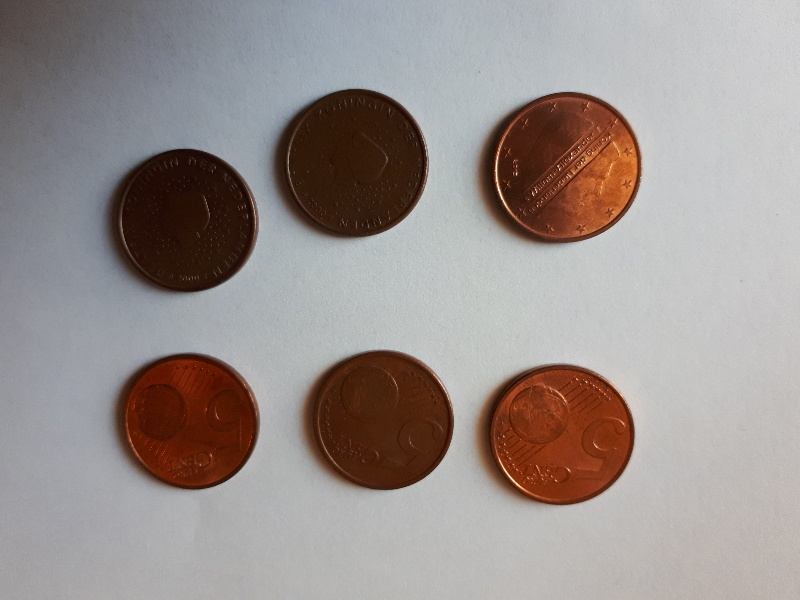5 cent: (490, 89, 645, 246), (486, 358, 642, 509), (111, 147, 264, 296), (282, 85, 429, 240), (308, 347, 459, 496), (118, 350, 265, 496)
